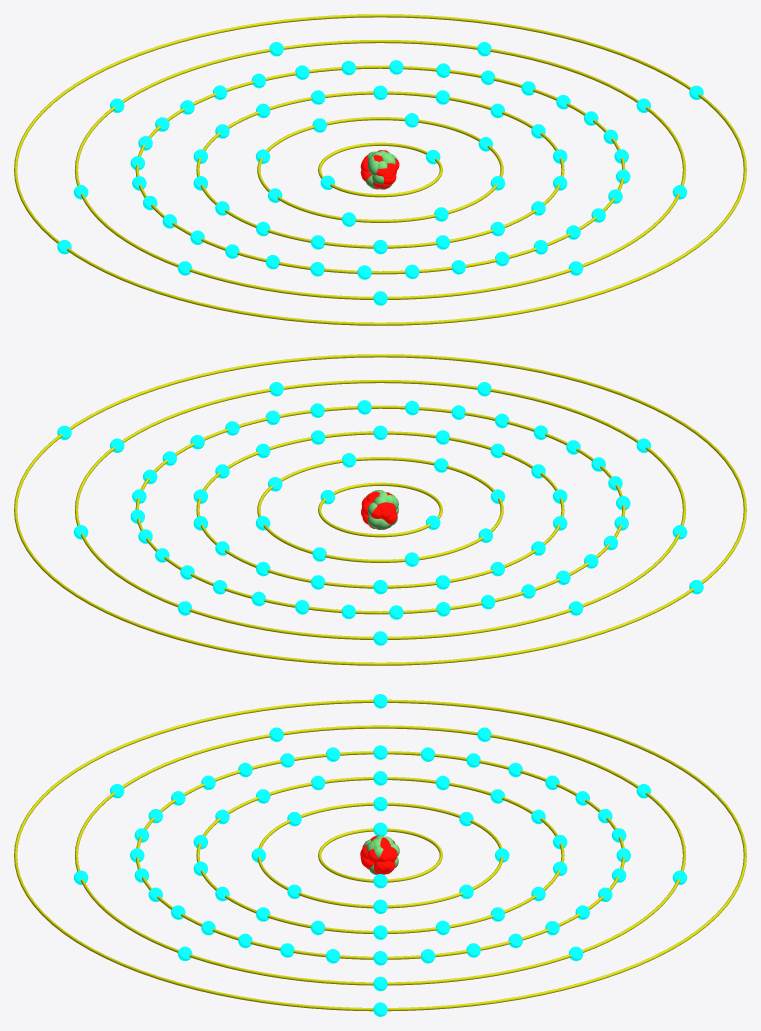
The model's file is atomo_71.glb.
3 renders of one model, top to bottom at view 1: azimuth 30°, elevation 25°; view 2: azimuth 150°, elevation 25°; view 3: azimuth 270°, elevation 25°, orthographic.
Parts seen in each view (by area): view 1: orbital_6, orbital_5, orbital_4, orbital_3, orbital_2, orbital_1; view 2: orbital_6, orbital_5, orbital_4, orbital_3, orbital_2, orbital_1; view 3: orbital_6, orbital_5, orbital_4, orbital_3, orbital_2, orbital_1.
Part boxes in pixels (x1,y1,x2,y2): orbital_6: (14, 14, 746, 325); orbital_5: (75, 40, 685, 299); orbital_4: (135, 65, 625, 274); orbital_3: (196, 91, 564, 248); orbital_2: (257, 117, 503, 222); orbital_1: (318, 142, 442, 197); orbital_6: (14, 354, 746, 665); orbital_5: (75, 380, 685, 639); orbital_4: (135, 405, 625, 614); orbital_3: (196, 431, 564, 588); orbital_2: (257, 457, 503, 562); orbital_1: (318, 482, 442, 537); orbital_6: (14, 699, 746, 1011); orbital_5: (75, 725, 685, 985); orbital_4: (136, 751, 624, 959); orbital_3: (196, 777, 564, 933); orbital_2: (257, 802, 503, 908); orbital_1: (318, 828, 442, 882).
Bounding box in the file's own units: 18.36 × 0.9972 × 18.08.
